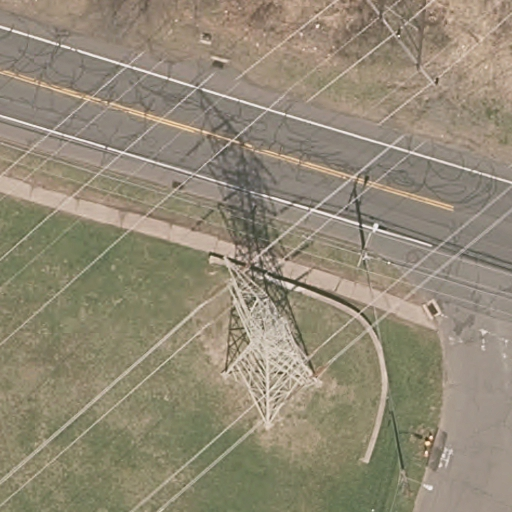DT: (354, 223, 377, 269)
TT: (210, 247, 322, 429)
